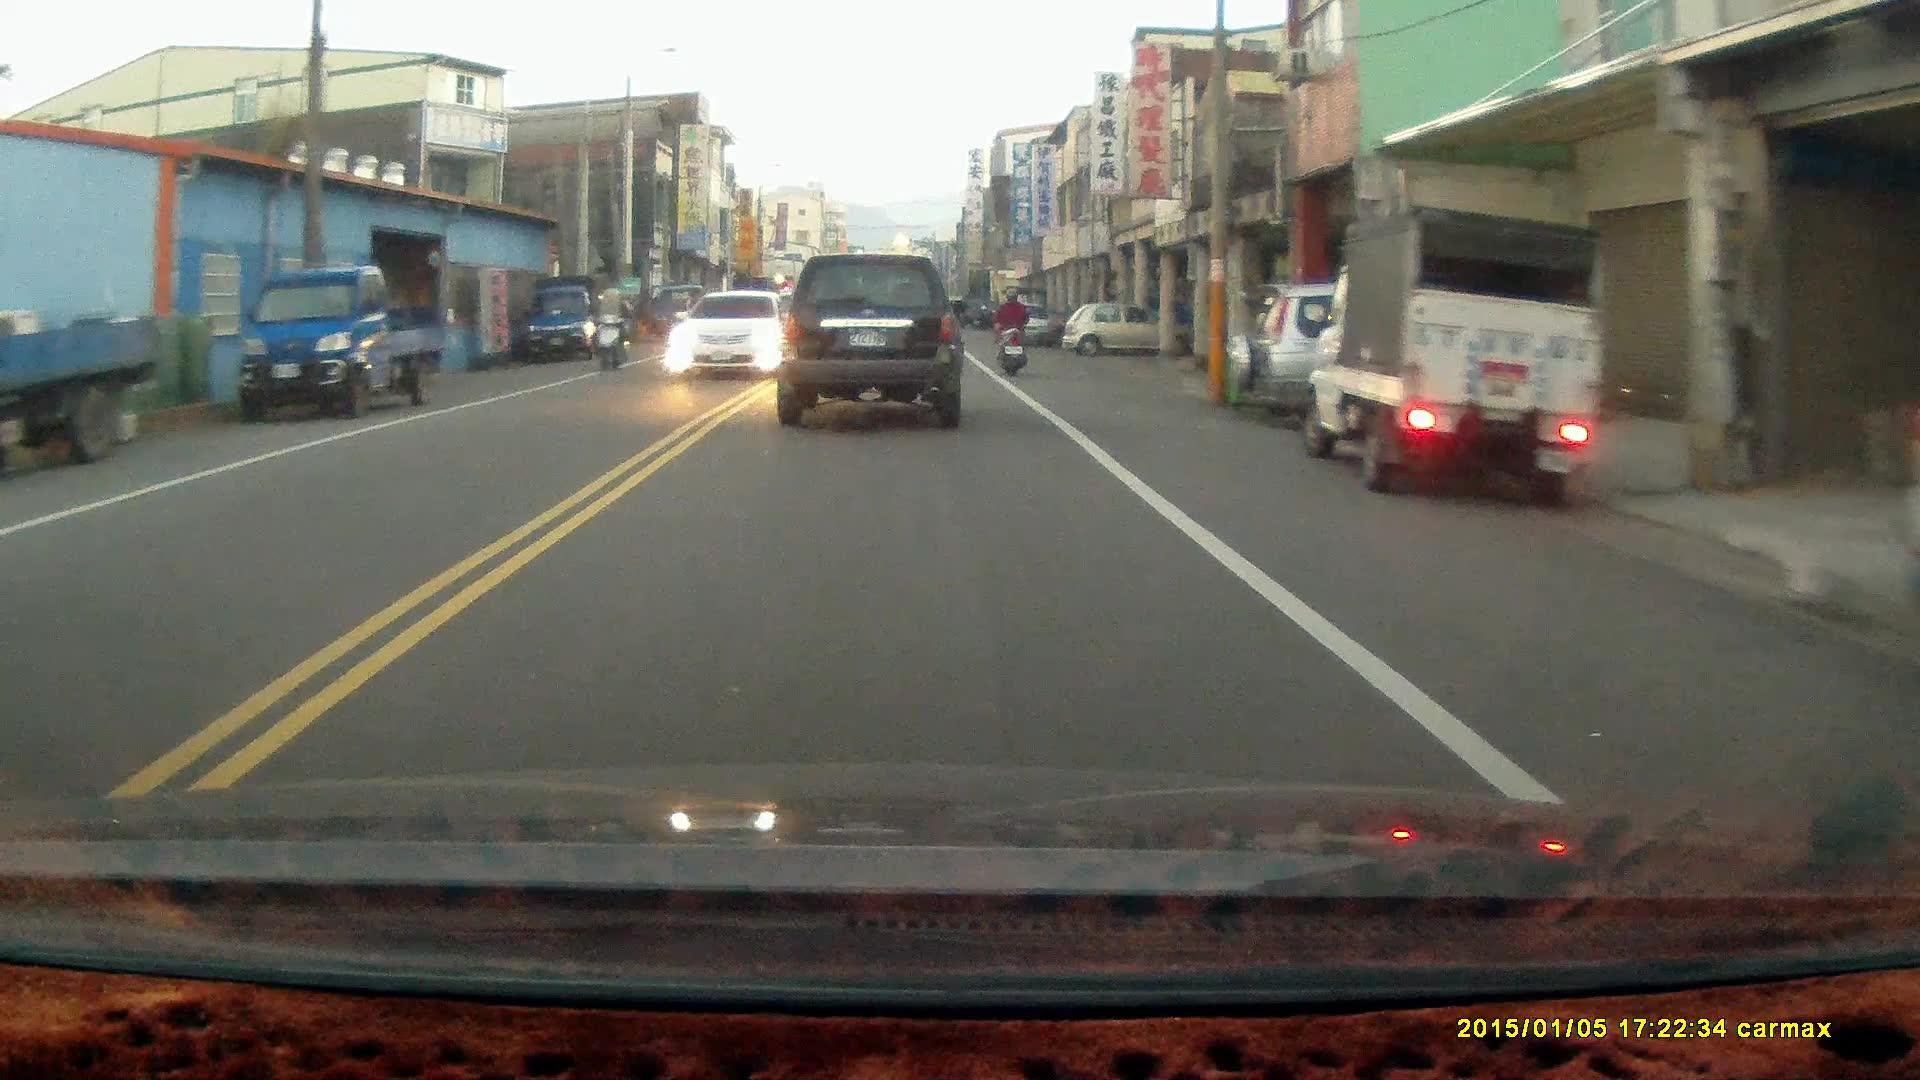rider: (589, 278, 629, 374), (992, 281, 1029, 377)
vehicle: (1305, 204, 1607, 517), (1225, 277, 1578, 430), (1, 265, 170, 478), (772, 255, 967, 431), (234, 270, 450, 421), (674, 290, 793, 382), (516, 276, 627, 363), (1066, 304, 1155, 358)
